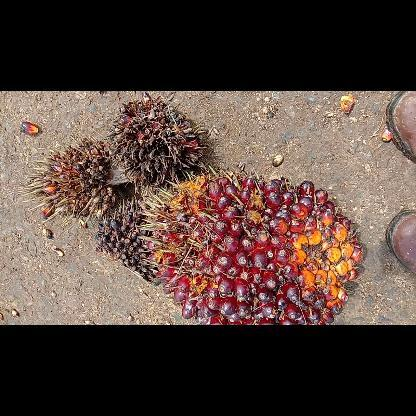TBS abnormal: (18, 134, 130, 224), (102, 98, 212, 188), (96, 197, 166, 289)
TBS masak: (137, 162, 366, 324)
